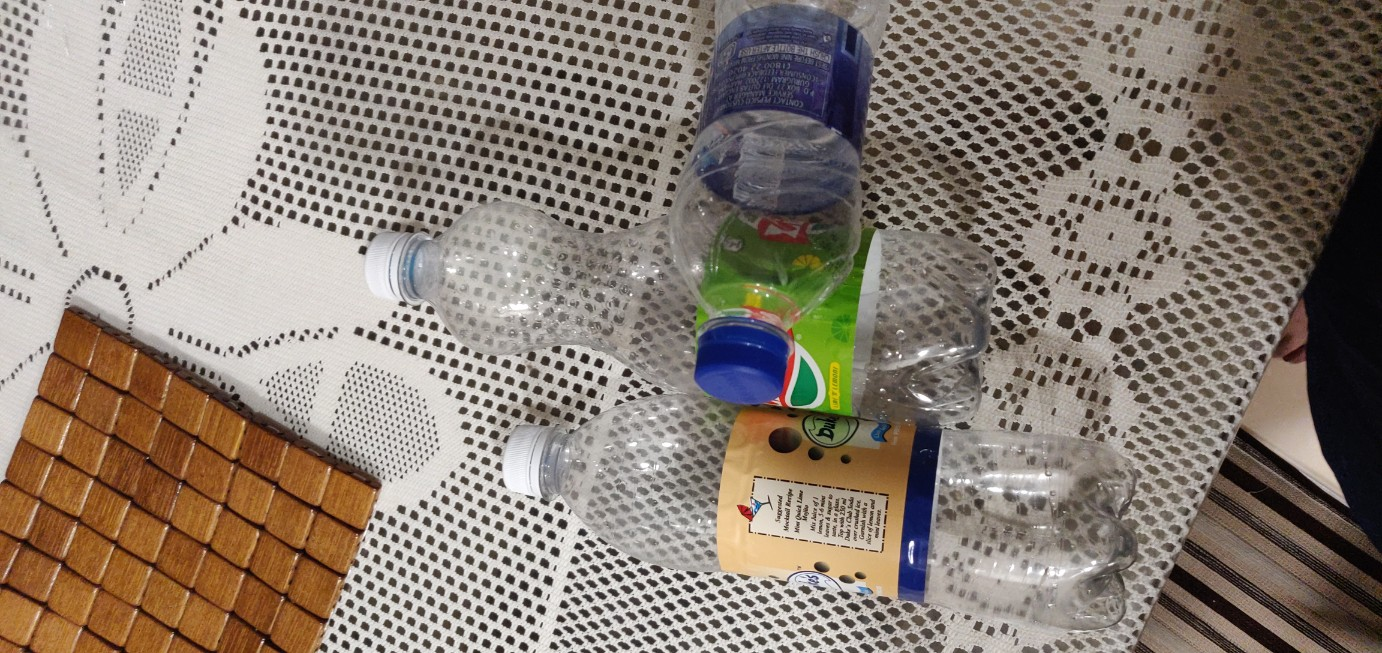Electronics: (472, 365, 1172, 653), (331, 177, 1041, 456), (631, 4, 906, 451)
